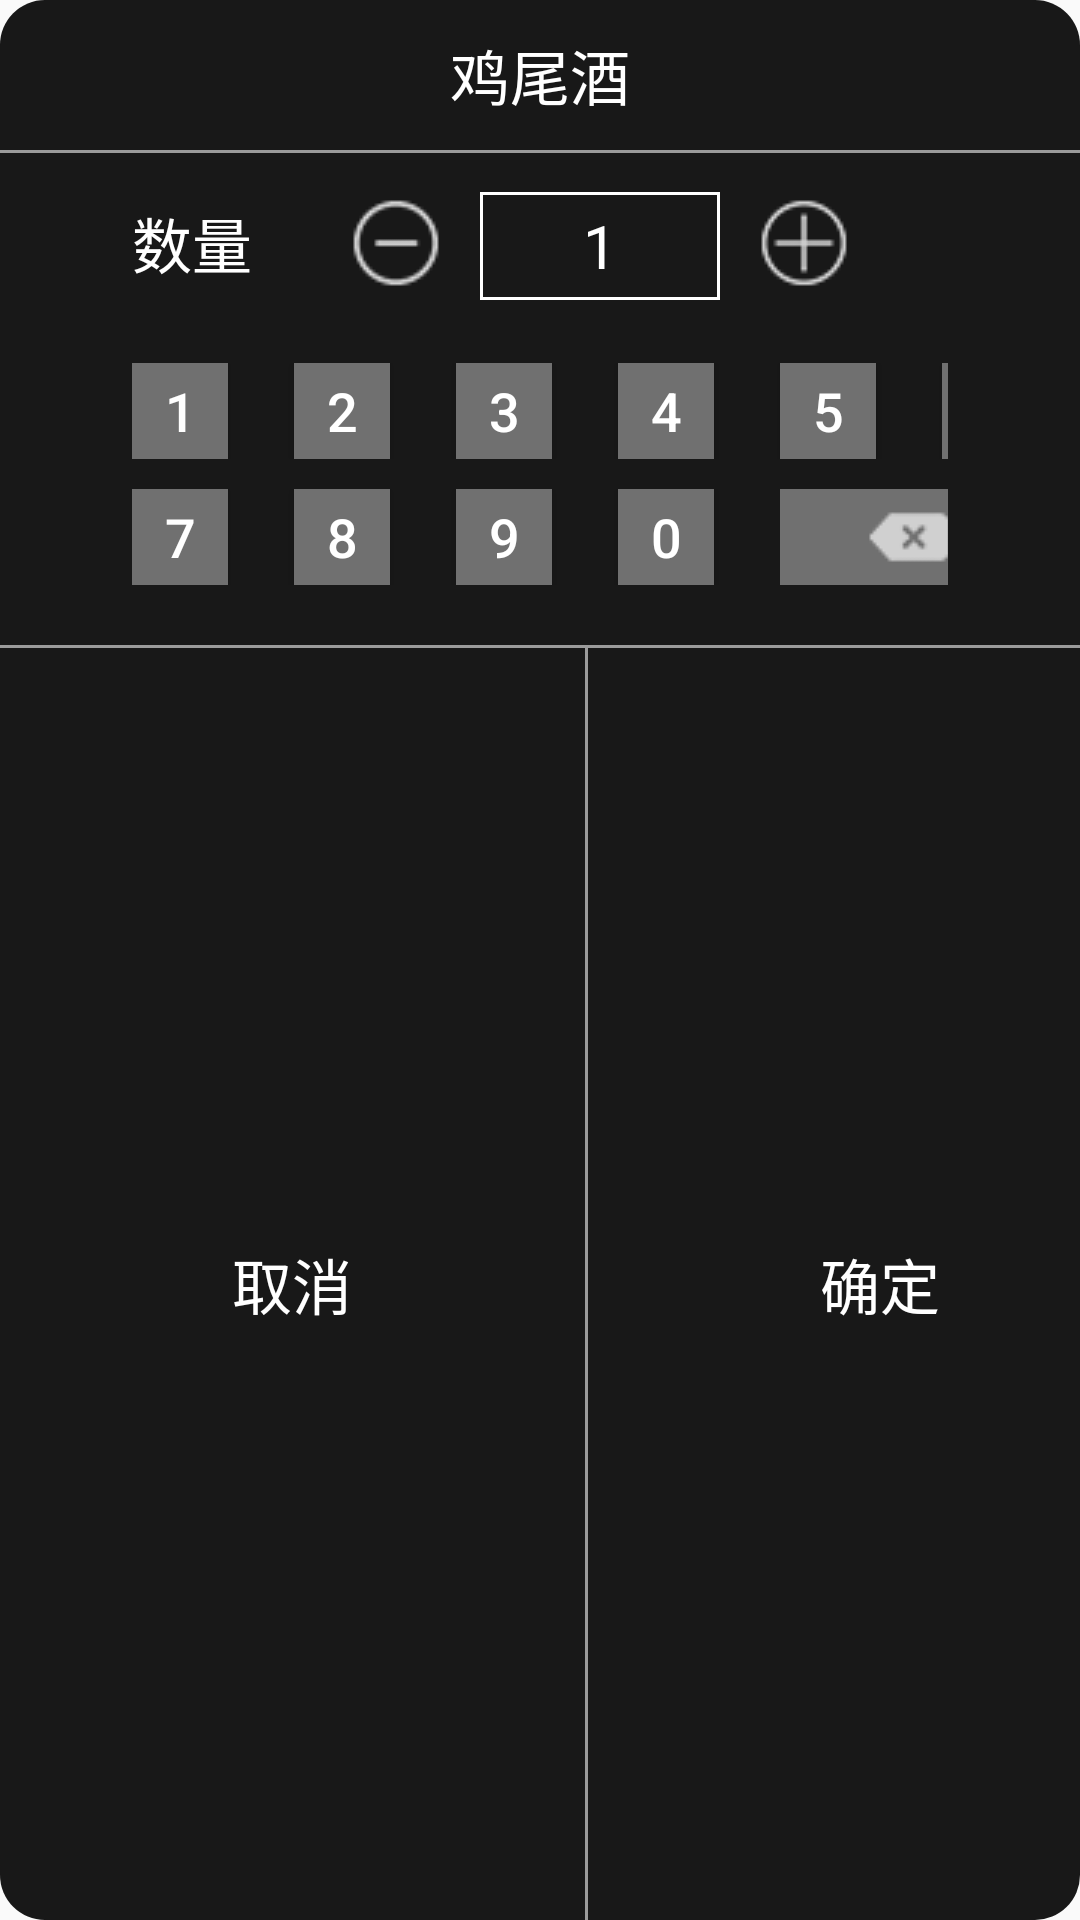

Icon bounding boxes for this 1080 x 1920 phone screenshot, format bbox=(x1, y1, x2, y2):
count add: bbox=(761, 200, 847, 286)
count reduce: bbox=(353, 200, 439, 286)
